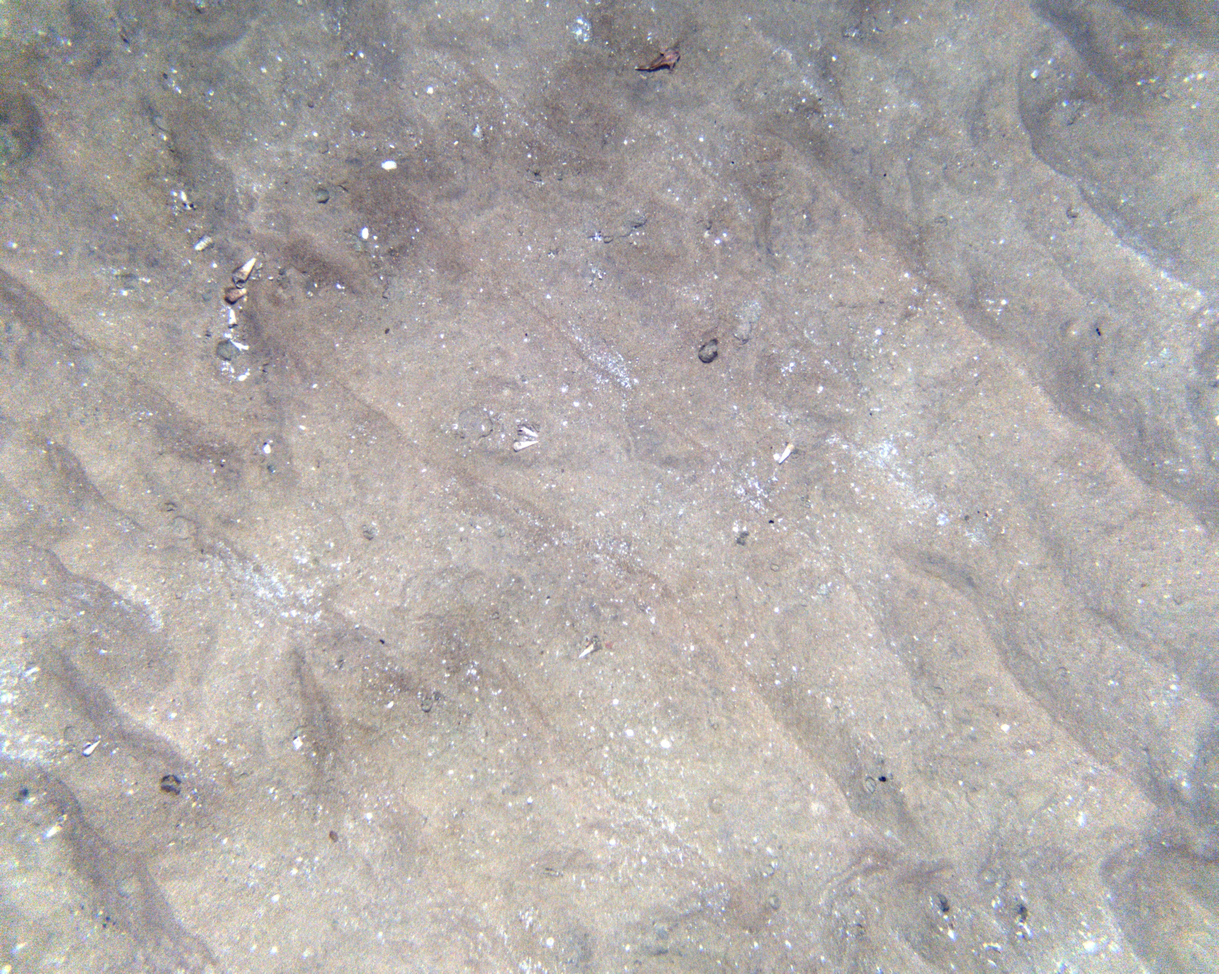Brachionichthyidae: (633, 47, 682, 73)
